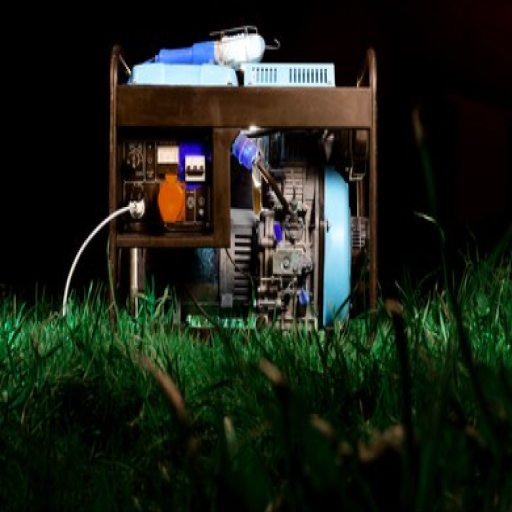portable_generator: (105, 43, 379, 336)
